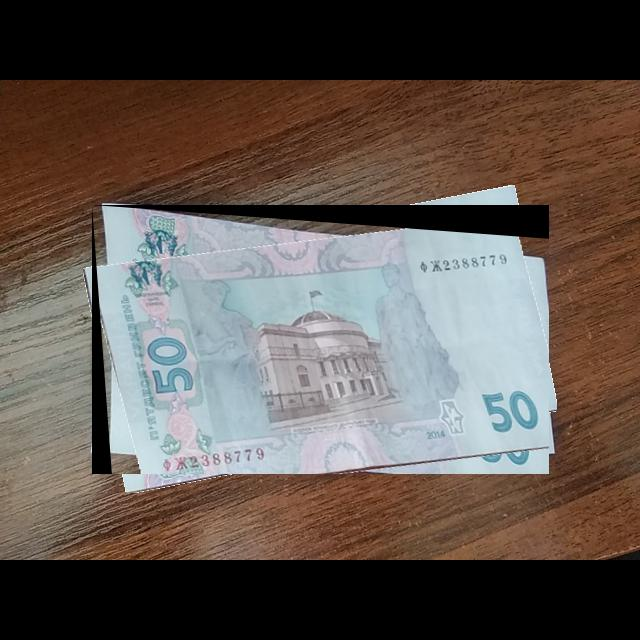50uah: (92, 205, 550, 475)
